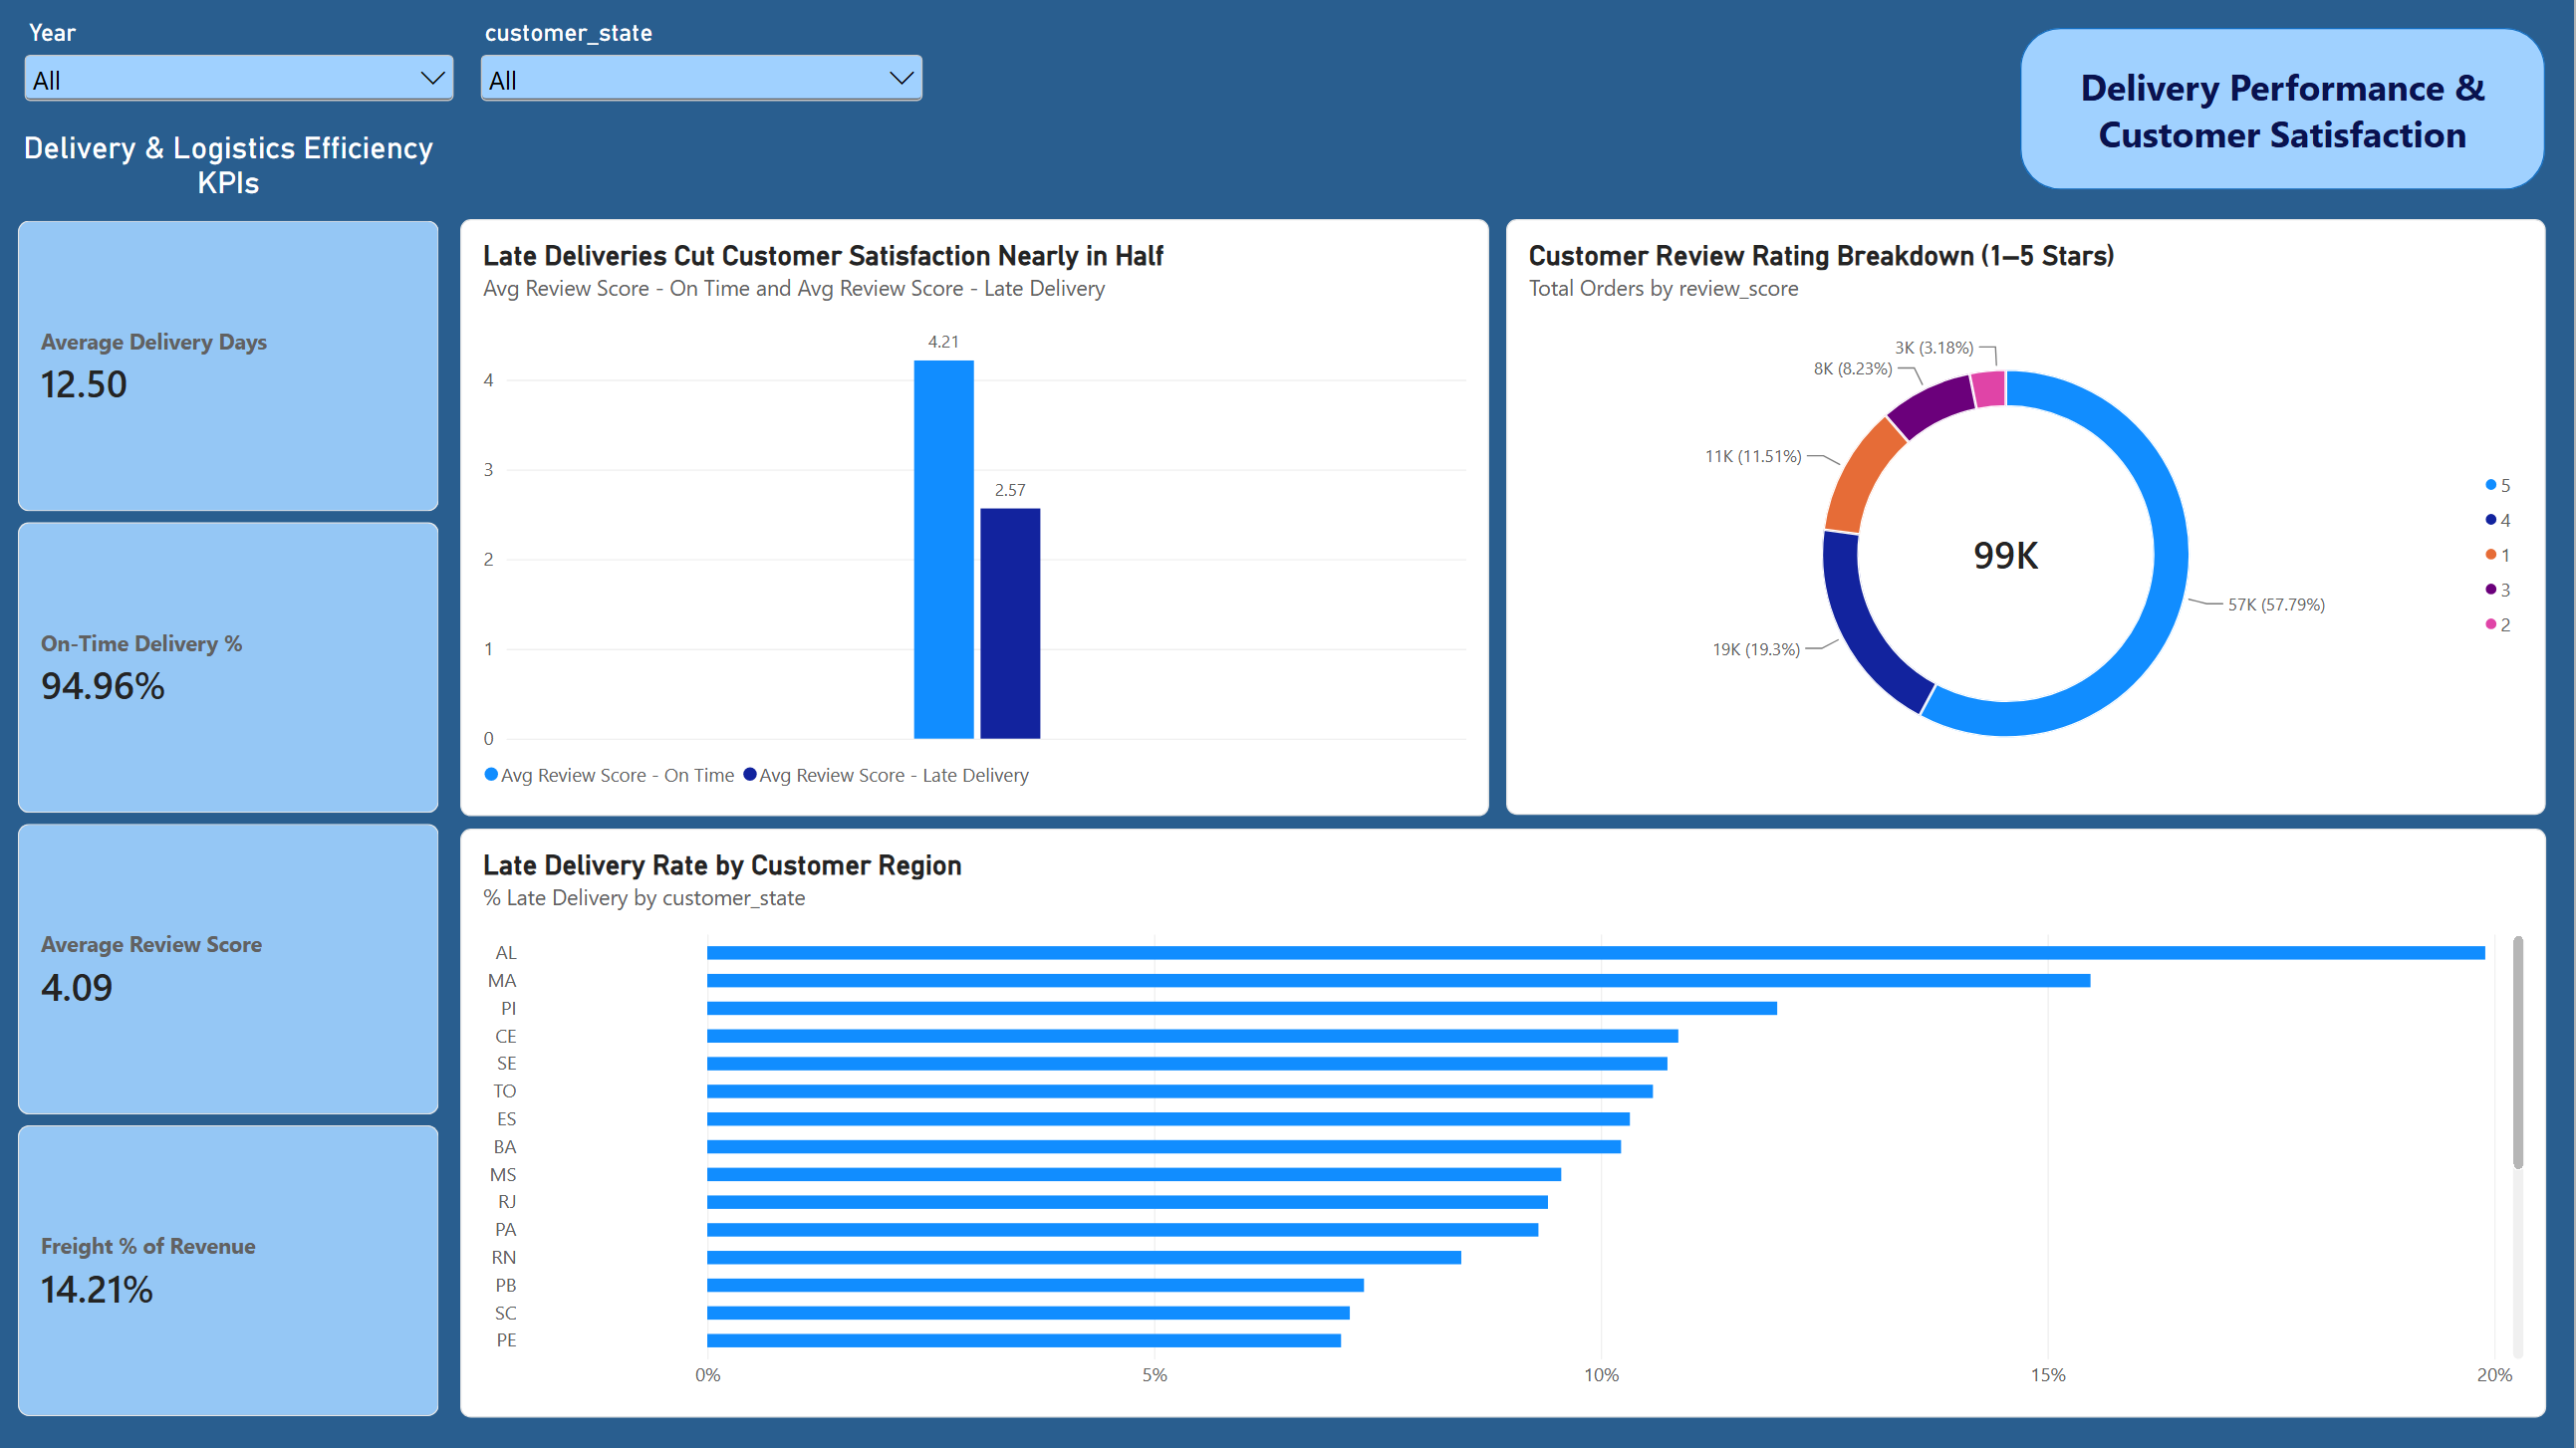

The page's visual inventory and layout, read from the dashboard file:
{"tool":"powerbi","page":{"name":"Delivery Performance & Customer Satisfaction","canvas":[1920,1080],"ordinal":1},"visuals":[{"type":"cardVisual","title":"Delivery & Logistics Efficiency KPIs","fields":{"Data":["Measure.Average Delivery Days","Measure.On-Time Delivery %","Measure.Average Review Score","Measure.Freight % of Revenue"]},"box":[12.7,97,314.2,961.6],"z":0},{"type":"clusteredColumnChart","title":"Late Deliveries Cut Customer Satisfaction Nearly in Half","fields":{"Y":["Measure.Avg Review Score - On Time","Measure.Avg Review Score - Late Delivery"]},"box":[342.6,162.9,767.6,445.6],"z":1000},{"type":"donutChart","title":"Customer Review Rating Breakdown (1–5 Stars)","fields":{"Category":["olist_order_reviews_dataset.review_score"],"Y":["Measure.Total Orders"]},"box":[1122.9,162.9,775.5,444.7],"z":2000},{"type":"clusteredBarChart","title":"Late Delivery Rate by Customer Region","fields":{"Category":["olist_customers_dataset.customer_state"],"Y":["Measure.% Late Delivery"]},"box":[342.7,618.9,1556.2,439.7],"z":3000},{"type":"slicer","title":"Year","fields":{"Values":["DateTable.Year"]},"box":[12.7,13.7,330,74.9],"z":4000},{"type":"slicer","fields":{"Values":["olist_customers_dataset.customer_state"]},"box":[353.2,13.7,339.5,85.4],"z":5000},{"type":"shape","box":[1506.7,20.6,391.7,120.7],"z":6000}]}

Visuals, with their boxes in screenshot pixels (x1, y1, x2, y2), scaled from the page's 1920x1080 canvas onto the 2576x1448 screenshot:
"Delivery & Logistics Efficiency KPIs" cardVisual: x1=17 y1=130 x2=438 y2=1419
"Late Deliveries Cut Customer Satisfaction Nearly in Half" clusteredColumnChart: x1=459 y1=218 x2=1489 y2=816
"Customer Review Rating Breakdown (1–5 Stars)" donutChart: x1=1506 y1=218 x2=2547 y2=815
"Late Delivery Rate by Customer Region" clusteredBarChart: x1=460 y1=830 x2=2548 y2=1419
"Year" slicer: x1=17 y1=18 x2=460 y2=119
slicer - olist_customers_dataset.customer_state: x1=474 y1=18 x2=929 y2=132
shape: x1=2021 y1=28 x2=2547 y2=189
